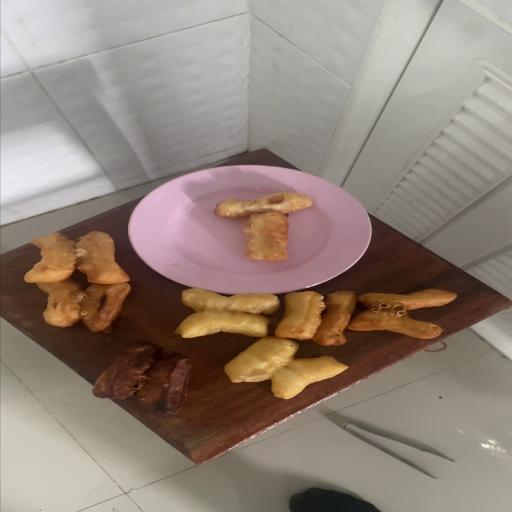street_golden_good: (175, 289, 347, 399)
